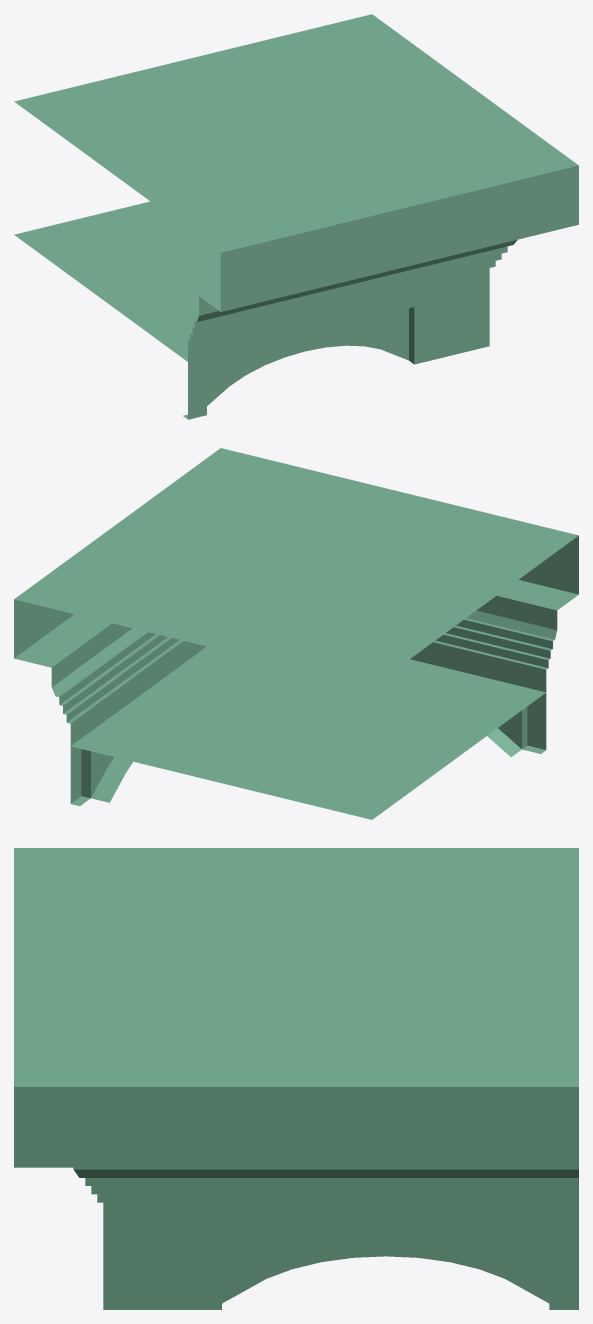
Rendered from object_B3_Roof_corner.glb.
The picture shows the model from 3 angles, top to bottom: view 1: azimuth 30°, elevation 25°; view 2: azimuth 150°, elevation 25°; view 3: azimuth 270°, elevation 25°; orthographic projection. The views are drawn at different scales.
Parts seen in each view (by area): view 1: B3 Roof corner; view 2: B3 Roof corner; view 3: B3 Roof corner.
Part boxes in pixels (x1,y1,x2,y2): B3 Roof corner: [14, 14, 578, 419]; B3 Roof corner: [14, 448, 578, 819]; B3 Roof corner: [14, 848, 578, 1309].
Bounding box in the file's own units: 3.8 × 1.93 × 3.8.
